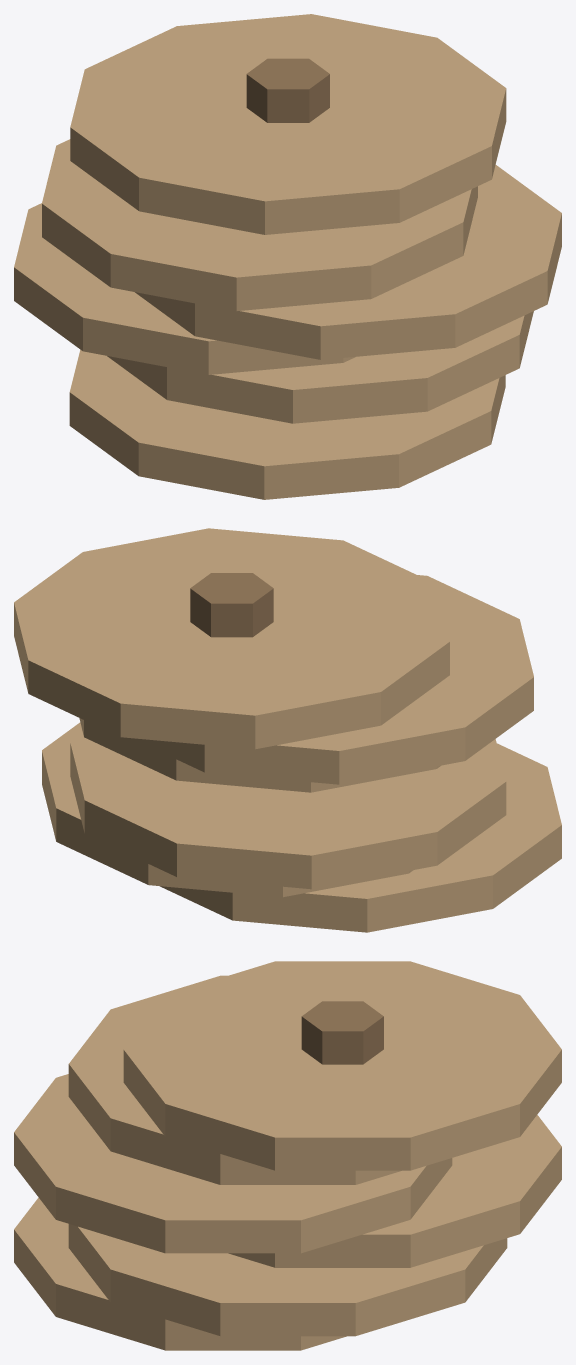
The model's file is item_093_wheel_l.glb.
3 renders of one model, top to bottom at view 1: azimuth 30°, elevation 25°; view 2: azimuth 150°, elevation 25°; view 3: azimuth 270°, elevation 25°, orthographic.
Parts seen in each view (by area): view 1: item_093_wheel_l; view 2: item_093_wheel_l; view 3: item_093_wheel_l.
Boxes of the visible parts, box(x1,y1,x2,y2) form: item_093_wheel_l: box(14, 14, 561, 499); item_093_wheel_l: box(14, 528, 561, 932); item_093_wheel_l: box(14, 961, 561, 1350).
Bounding box in the file's own units: 0.5265 × 0.33 × 0.6.
